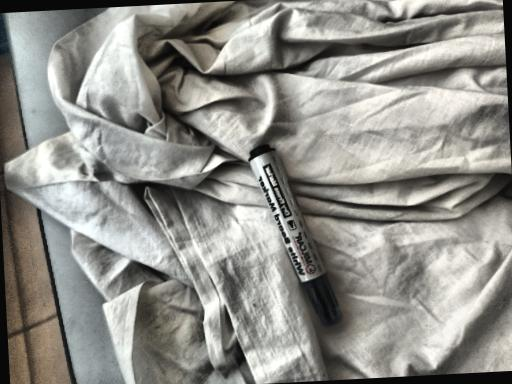marcador negro: (249, 145, 342, 326)
